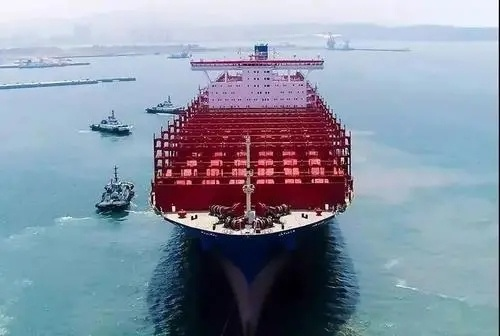Cargoship: (149, 40, 356, 245)
otherboat: (96, 165, 135, 214), (87, 107, 136, 137), (142, 97, 187, 114)
